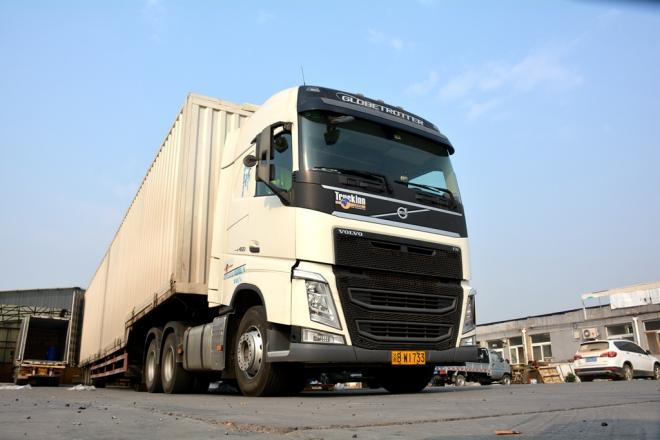卡车: (76, 78, 476, 397)
